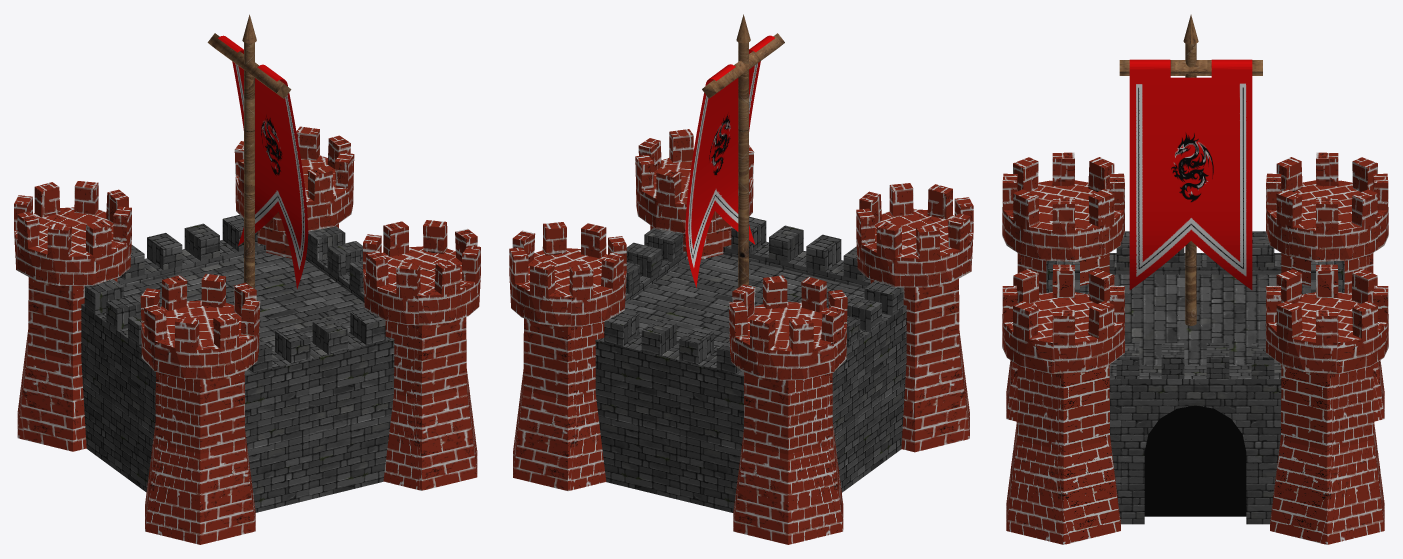
Rendered from castle.gltf.
The picture shows the model from 3 angles, left to right: view 1: azimuth 30°, elevation 25°; view 2: azimuth 150°, elevation 25°; view 3: azimuth 270°, elevation 25°; orthographic projection. The views are drawn at different scales.
Parts seen in each view (by area): view 1: base.001, object_14.003, object_14.002, object_19.001, object_3.001, object_111.000, object_3.004; view 2: base.001, object_14.003, object_14.002, object_19.001, object_3.001, object_111.000, object_3.004; view 3: base.001, object_3.005, object_3.004, object_19.001, Plane.001, object_14.002, object_111.000, object_14.003.
Boxes of the visible parts, box(x1,y1,x2,y2) form: base.001: box(14, 126, 480, 544); object_14.003: box(117, 215, 394, 512); object_14.002: box(81, 279, 155, 492); object_19.001: box(123, 252, 364, 352); object_3.001: box(232, 50, 308, 289); object_111.000: box(207, 14, 291, 288); object_3.004: box(305, 226, 364, 302); base.001: box(509, 129, 973, 544); object_14.003: box(595, 216, 870, 512); object_14.002: box(832, 281, 906, 492); object_19.001: box(624, 254, 864, 353); object_3.001: box(685, 50, 760, 287); object_111.000: box(702, 14, 784, 287); object_3.004: box(625, 228, 686, 303); base.001: box(1002, 152, 1388, 544); object_3.005: box(1129, 59, 1252, 289); object_3.004: box(1109, 343, 1281, 524); object_19.001: box(1080, 274, 1310, 364); Plane.001: box(1144, 405, 1246, 516); object_14.002: box(1109, 231, 1281, 274); object_111.000: box(1119, 14, 1262, 325); object_14.003: box(1046, 261, 1344, 292).
Size of the model in its own units: 141 by 175 by 137.
5 materials, 4 textured.
